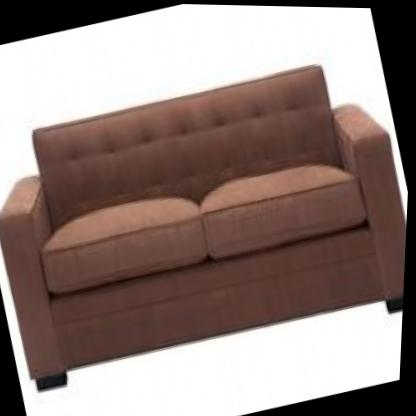Sofa: (0, 40, 415, 402)
